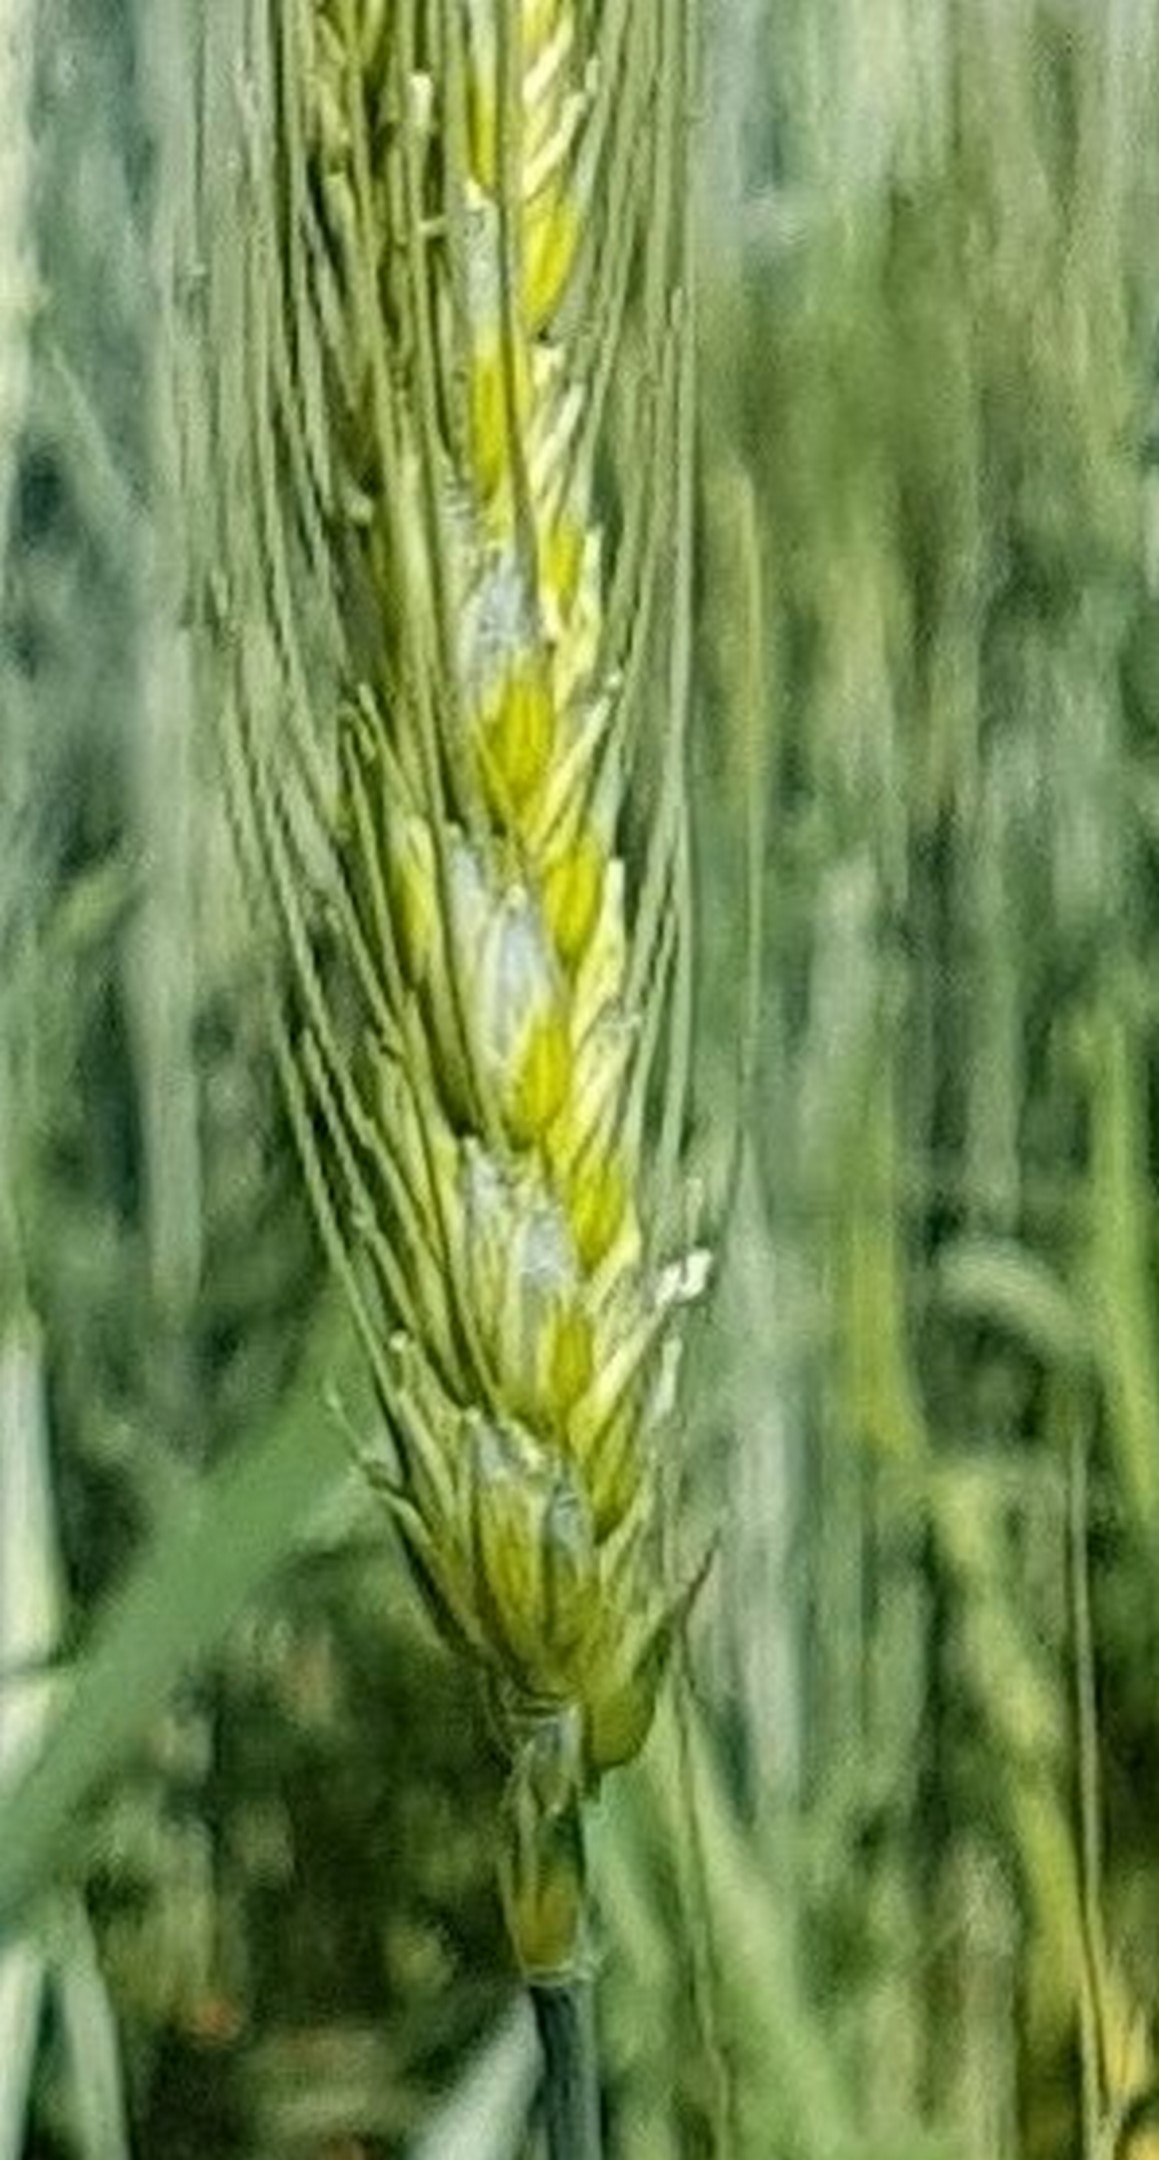Healthy Wheat: (232, 40, 707, 1773)
